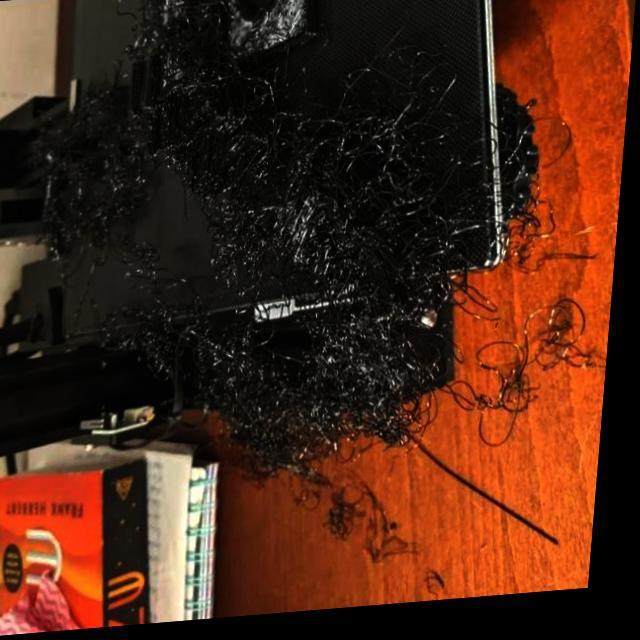spaghetti: (241, 304, 435, 472), (308, 89, 464, 228), (46, 96, 161, 249), (170, 67, 292, 188), (318, 209, 445, 315), (206, 163, 309, 284), (121, 296, 240, 387), (122, 1, 218, 71)
